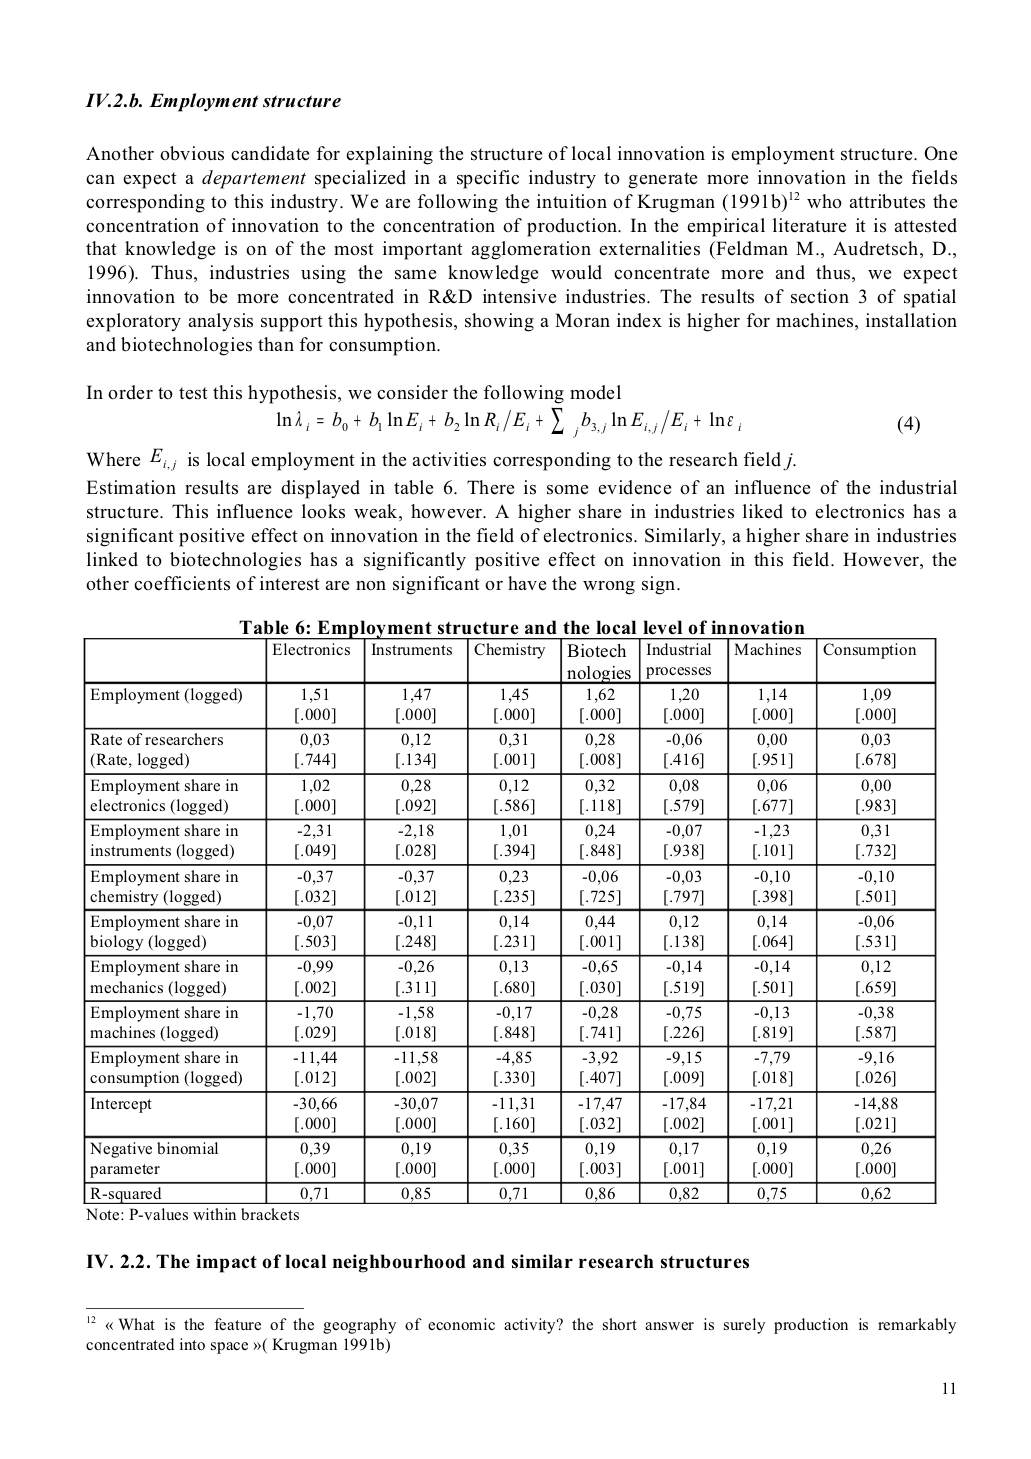Table: (83, 637, 936, 1202)
formula: (276, 406, 919, 438)
